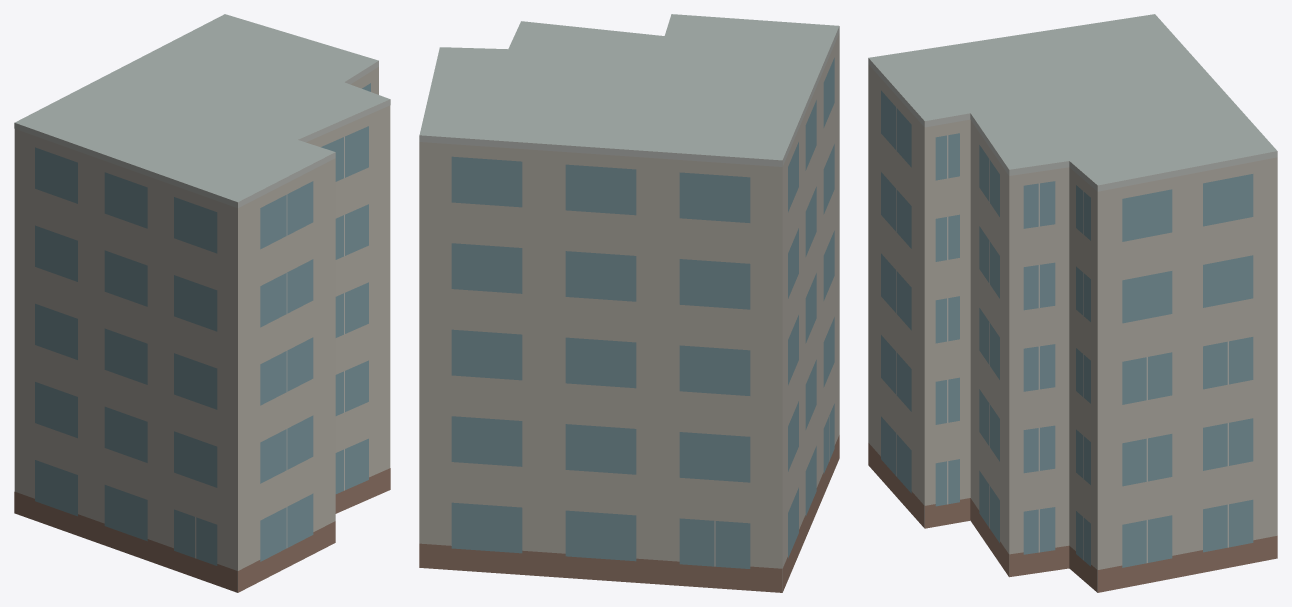
Rendered from survey-upis-32863550.glb.
3 views of the same model, side by side, from view 1: azimuth 30°, elevation 25°; view 2: azimuth 150°, elevation 25°; view 3: azimuth 270°, elevation 25° (orthographic). The views are drawn at different scales.
Parts seen in each view (by area): view 1: survey-upis-32863550.tmp; view 2: survey-upis-32863550.tmp; view 3: survey-upis-32863550.tmp.
Boxes of the visible parts, x1=… form: survey-upis-32863550.tmp: x1=14, y1=14, x2=390, y2=592; survey-upis-32863550.tmp: x1=419, y1=14, x2=839, y2=592; survey-upis-32863550.tmp: x1=868, y1=14, x2=1277, y2=592.
Bounding box in the file's own units: 14.32 × 15.85 × 14.44.
